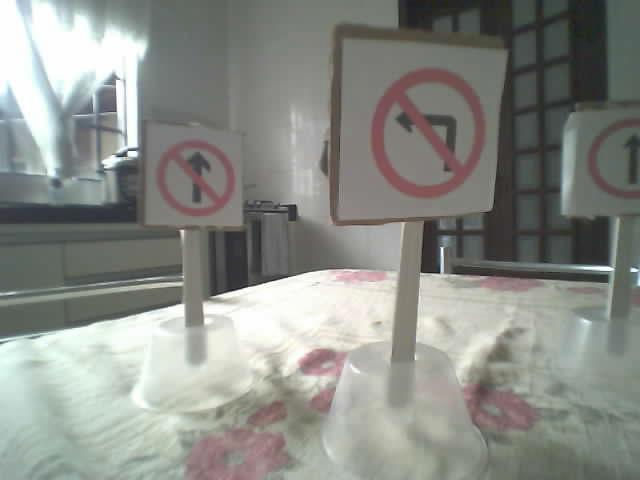R-26_frente: (589, 117, 639, 197)
R-3_sentido-proibido: (156, 139, 234, 216)
R-4a_proibido-esquerda: (370, 67, 487, 197)
